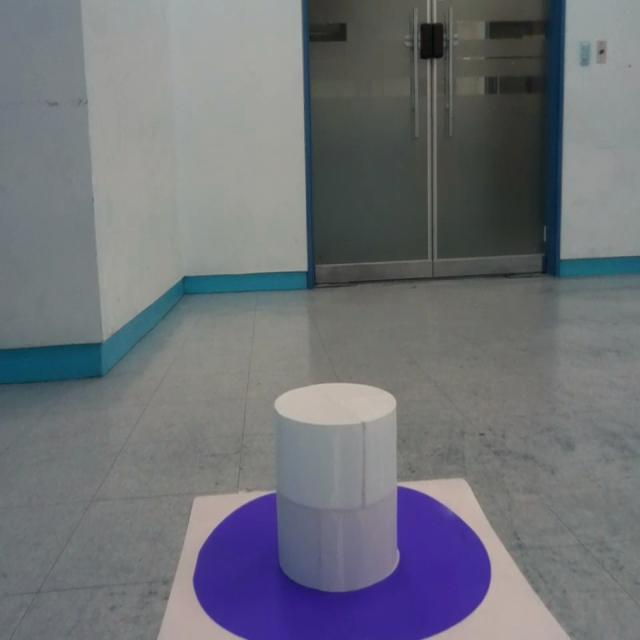cylinder: (273, 382, 400, 592)
